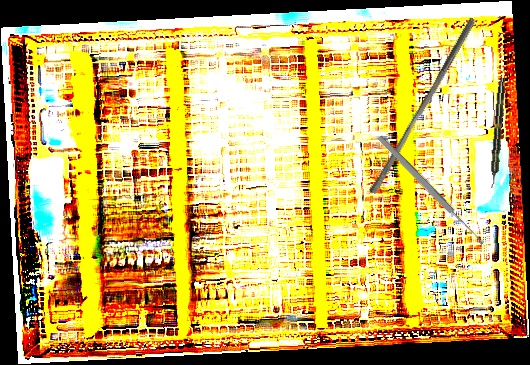Handpiece: (488, 77, 507, 189)
Pusher: (368, 13, 477, 198)
Surgical Spoon: (376, 134, 486, 247)
